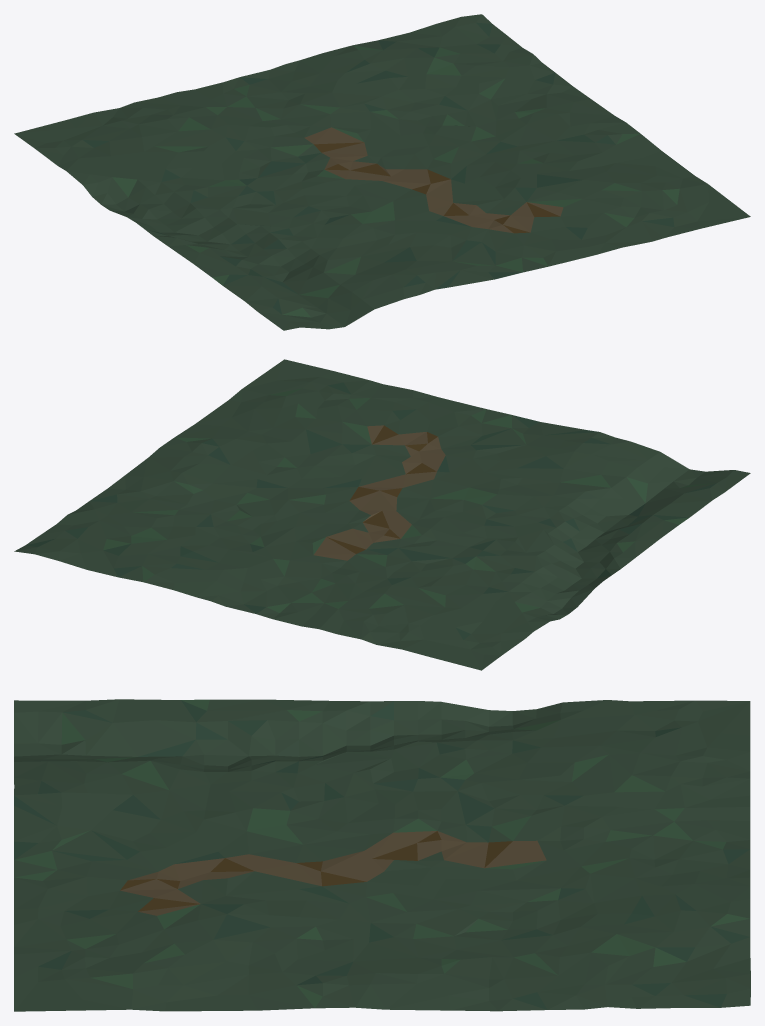
Rendered from Level1BaseFloor.fbx.
3 renders of one model, top to bottom at view 1: azimuth 30°, elevation 25°; view 2: azimuth 150°, elevation 25°; view 3: azimuth 270°, elevation 25°, orthographic. The views are drawn at different scales.
Visible parts, largest first — view 1: Level1BaseFloor; view 2: Level1BaseFloor; view 3: Level1BaseFloor.
Part boxes in pixels (<box>): Level1BaseFloor: <box>14,14,750,330</box>; Level1BaseFloor: <box>14,359,750,670</box>; Level1BaseFloor: <box>14,699,750,1011</box>.
Size of the model in its own units: 5983 by 238 by 5975.
